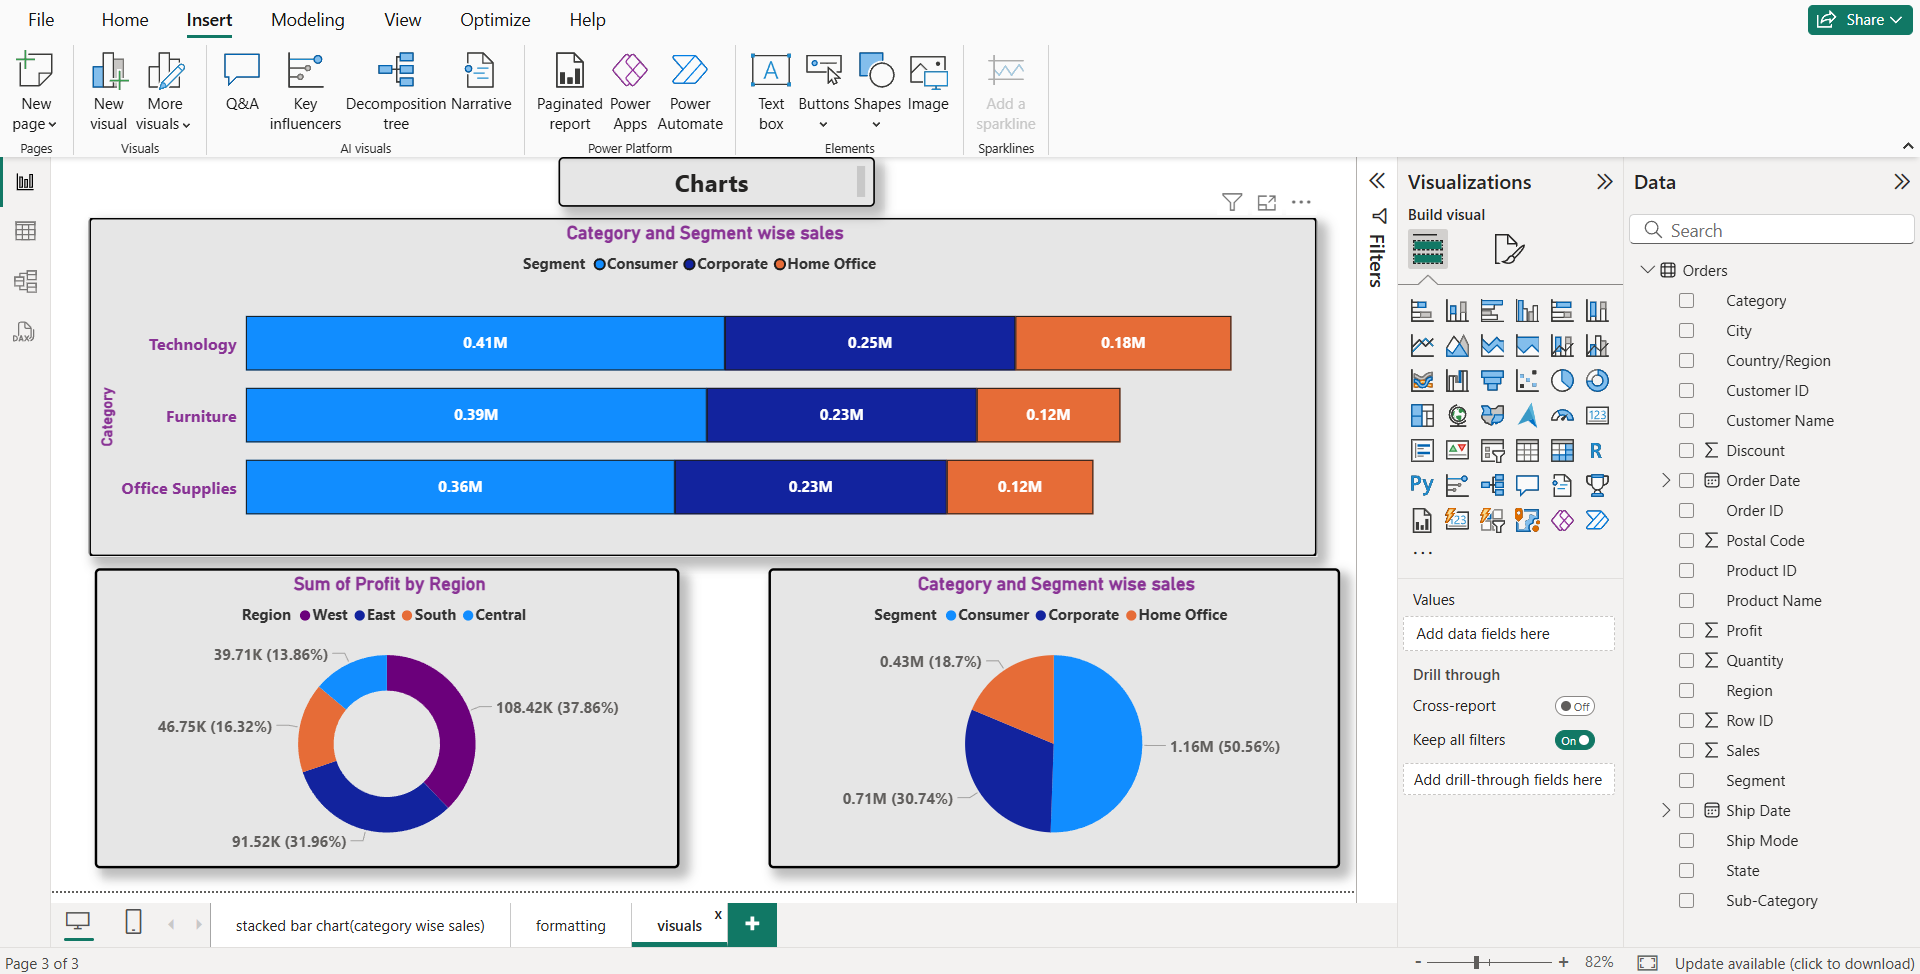

Layout of this report page (visuals, bound fields, positions):
{"tool":"powerbi","page":{"name":"visuals","canvas":[1280,720],"ordinal":2},"visuals":[{"type":"barChart","title":"Category and Segment wise sales","fields":{"Category":["Orders.Category"],"Series":["Orders.Segment"],"Y":["Sum(Orders.Sales)"]},"box":[36.8,58.9,1205.4,333.6],"z":0},{"type":"pieChart","title":"Category and Segment wise sales","fields":{"Series":["Orders.Segment"],"Y":["Sum(Orders.Sales)"]},"box":[703.9,403.5,560.4,294.3],"z":1},{"type":"donutChart","fields":{"Category":["Orders.Region"],"Y":["Sum(Orders.Profit)"]},"box":[42.9,403.5,573.9,294.3],"z":2},{"type":"textbox","box":[497.9,0,310.3,49.1],"z":3}]}

Visuals, with their boxes on the page's 1280x720 design canvas (x1, y1, x2, y2). These are canvas units, not pixel positions in the 1920x974 screenshot, which may show the page scaled, cropped or inside an application window:
"Category and Segment wise sales" barChart: [37, 59, 1242, 392]
"Category and Segment wise sales" pieChart: [704, 404, 1264, 698]
donutChart - Orders.Region x Sum(Orders.Profit): [43, 404, 617, 698]
textbox: [498, 0, 808, 49]
